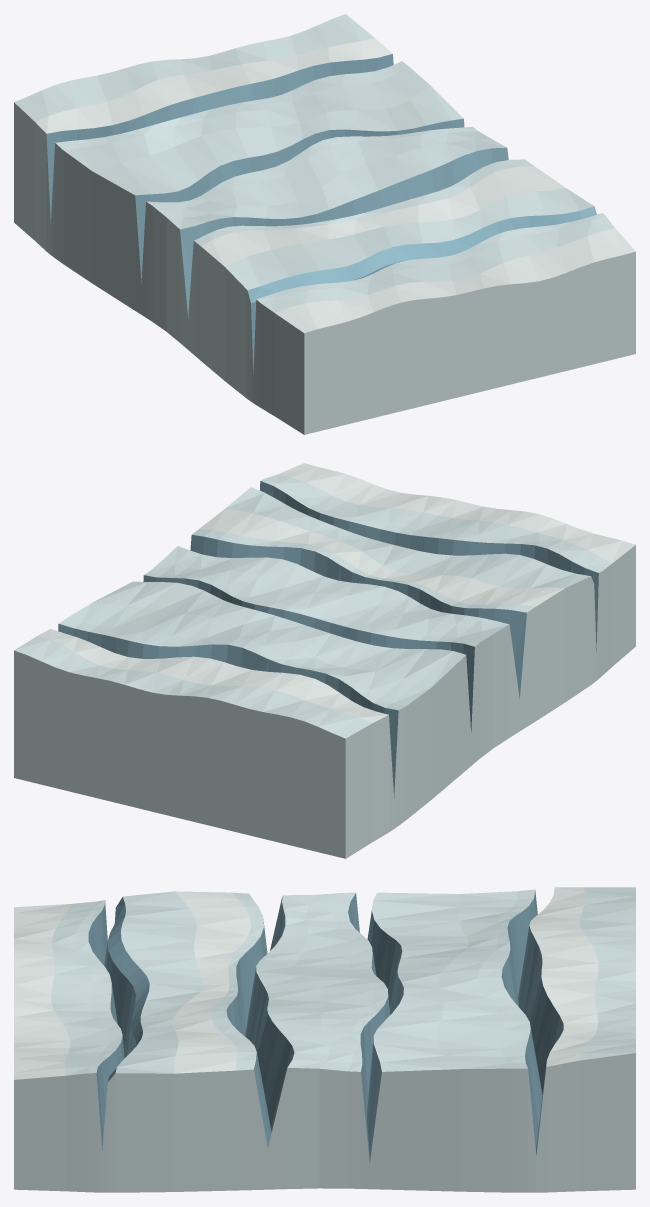
File: glacier-crevasse-field.glb
The picture shows the model from 3 angles, top to bottom: view 1: azimuth 30°, elevation 25°; view 2: azimuth 150°, elevation 25°; view 3: azimuth 270°, elevation 25°; orthographic projection. The views are drawn at different scales.
Visible parts, largest first — view 1: continuous-ice-with-four-v-fractures; view 2: continuous-ice-with-four-v-fractures; view 3: continuous-ice-with-four-v-fractures.
Boxes of the visible parts, left/top/right/bottom form: continuous-ice-with-four-v-fractures: left=14, top=14, right=635, bottom=434; continuous-ice-with-four-v-fractures: left=14, top=463, right=635, bottom=858; continuous-ice-with-four-v-fractures: left=14, top=887, right=635, bottom=1192.
Size of the model in its own units: 36.9 by 13.16 by 54.
